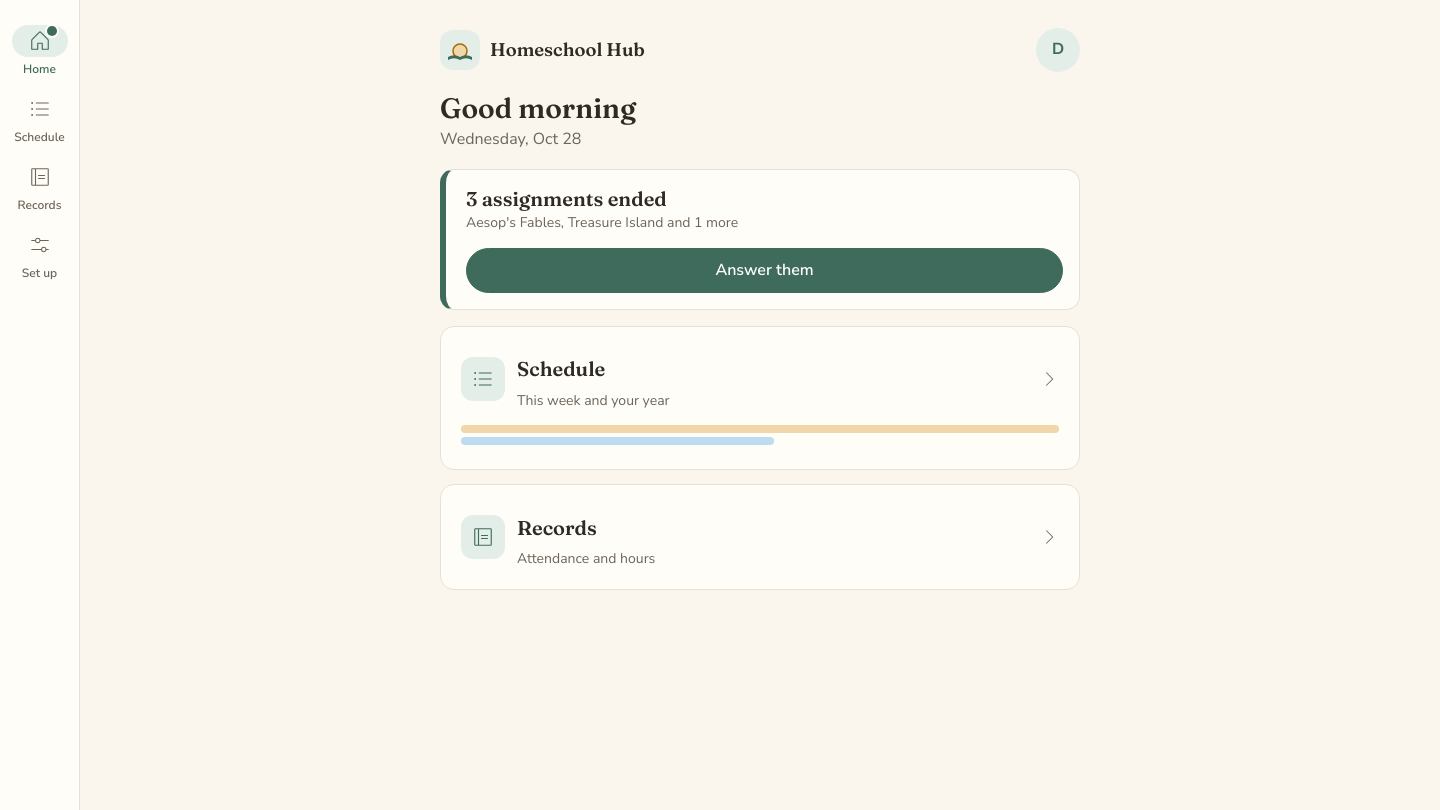
several waiting (S12-03) › is one card, "3 assignments ended", that opens a sheet listing each, oldest first, with the same three choices
Expected: the heading "3 assignments ended" is shown, [466, 186, 667, 211]
Expected: the text "Aesop's Fables, Treasure Island and 1 more" is shown, [466, 213, 738, 232]
Click the button "Answer them": (764, 270) [466, 248, 1063, 293]
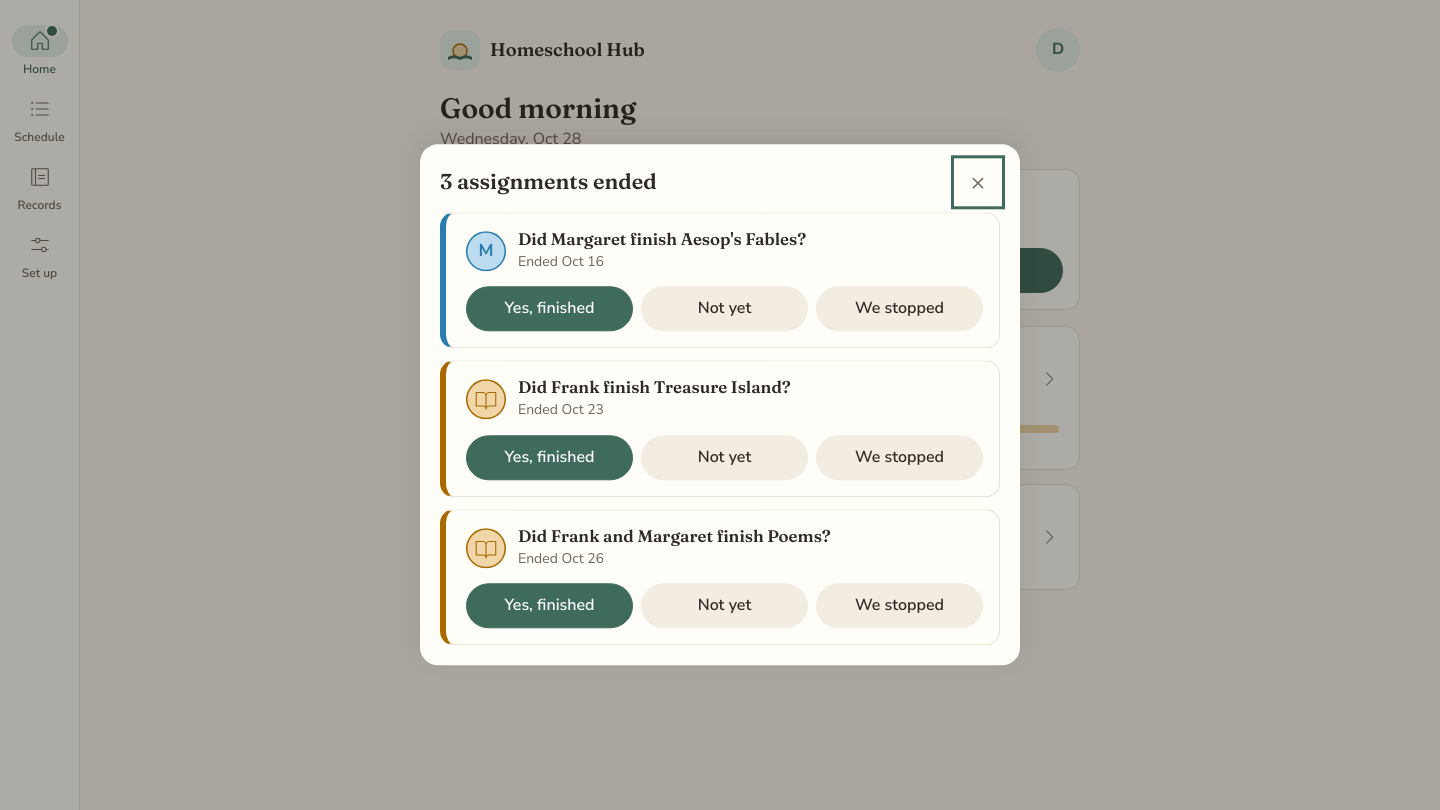
Result: the button with aria-label "Not yet: Aesop's Fables" is shown at [641, 287, 808, 332]
